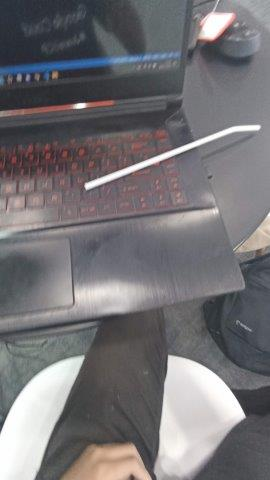sedotan: (84, 125, 260, 190)
